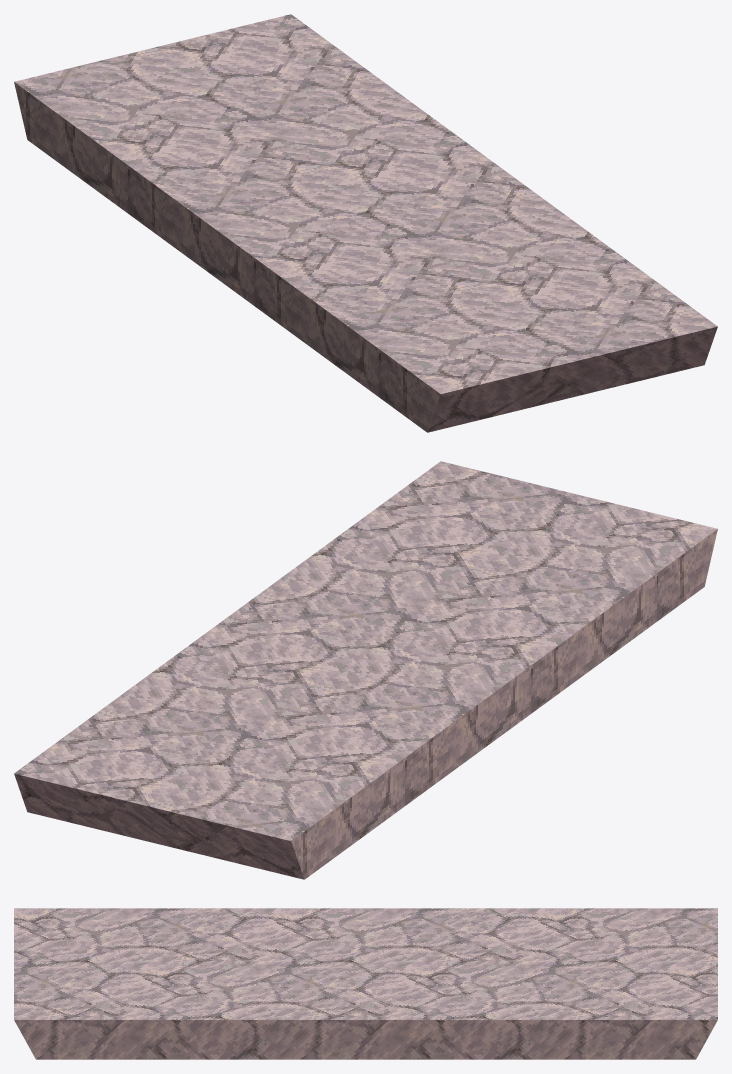
File: rc_shiso.glb
3 renders of one model, top to bottom at view 1: azimuth 30°, elevation 25°; view 2: azimuth 150°, elevation 25°; view 3: azimuth 270°, elevation 25°, orthographic. The views are drawn at different scales.
Visible parts, largest first — view 1: rc_shiso; view 2: rc_shiso; view 3: rc_shiso.
Part boxes in pixels (x1=…): rc_shiso: x1=14, y1=14, x2=717, y2=432; rc_shiso: x1=14, y1=461, x2=717, y2=879; rc_shiso: x1=14, y1=908, x2=717, y2=1059.
Size of the model in its own units: 4.69 by 0.7812 by 12.5.
1 material, 1 textured.
